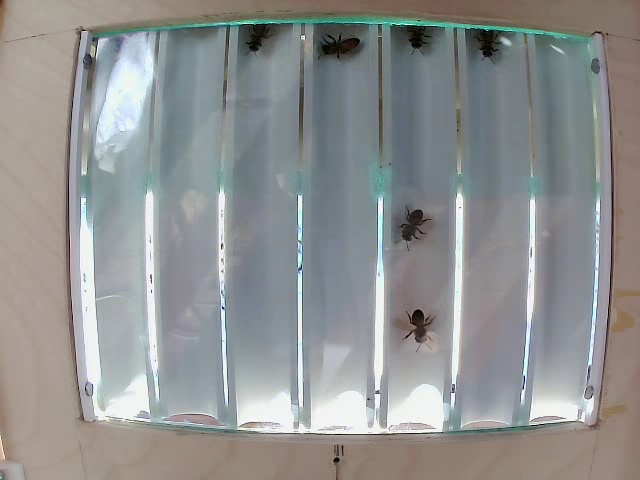bee: (320, 28, 372, 68), (401, 296, 437, 345), (391, 199, 428, 245)
